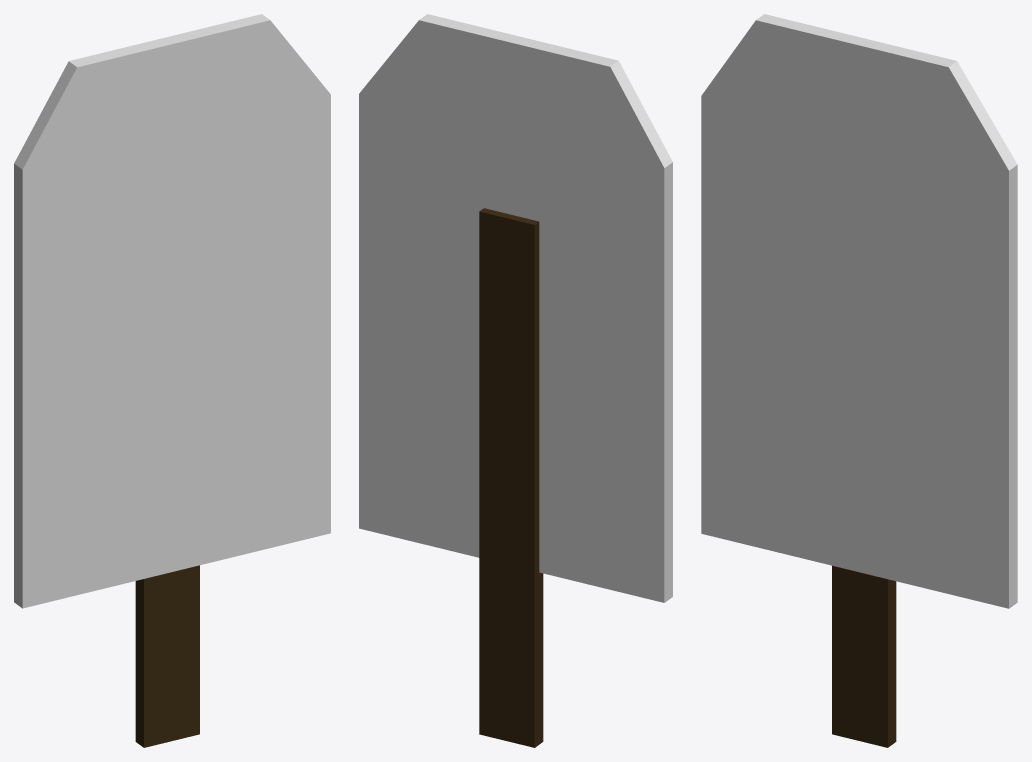
The model's file is Cowboy1Tex.fbx.
3 renders of one model, left to right at view 1: azimuth 30°, elevation 25°; view 2: azimuth 150°, elevation 25°; view 3: azimuth 330°, elevation 25°, orthographic.
Visible parts, largest first — view 1: Cube; view 2: Cube; view 3: Cube.
Part boxes in pixels (x1,y1,x2,y2): Cube: (14,14,330,747); Cube: (359,14,672,747); Cube: (701,14,1017,747).
Size of the model in its own units: 302 by 656 by 22.44.
